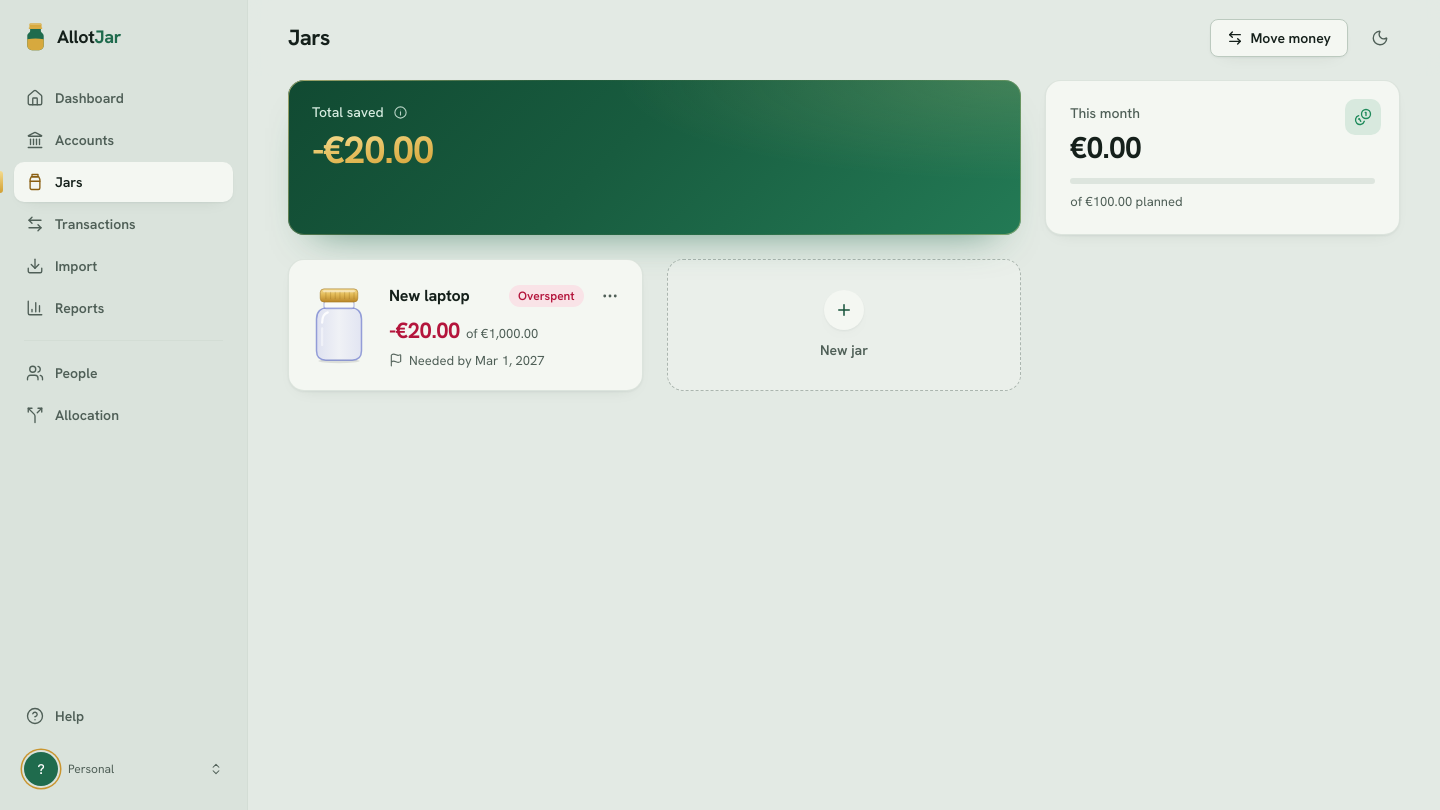
Test case: JarsPage — completion and deletion (W04) › O3a: an overdrawn Goal's dialog says how much to cover first, with nothing to confirm
The image size is (1440, 810).
Click the button named "New laptop: more actions": (610, 296) [590,276,630,316]
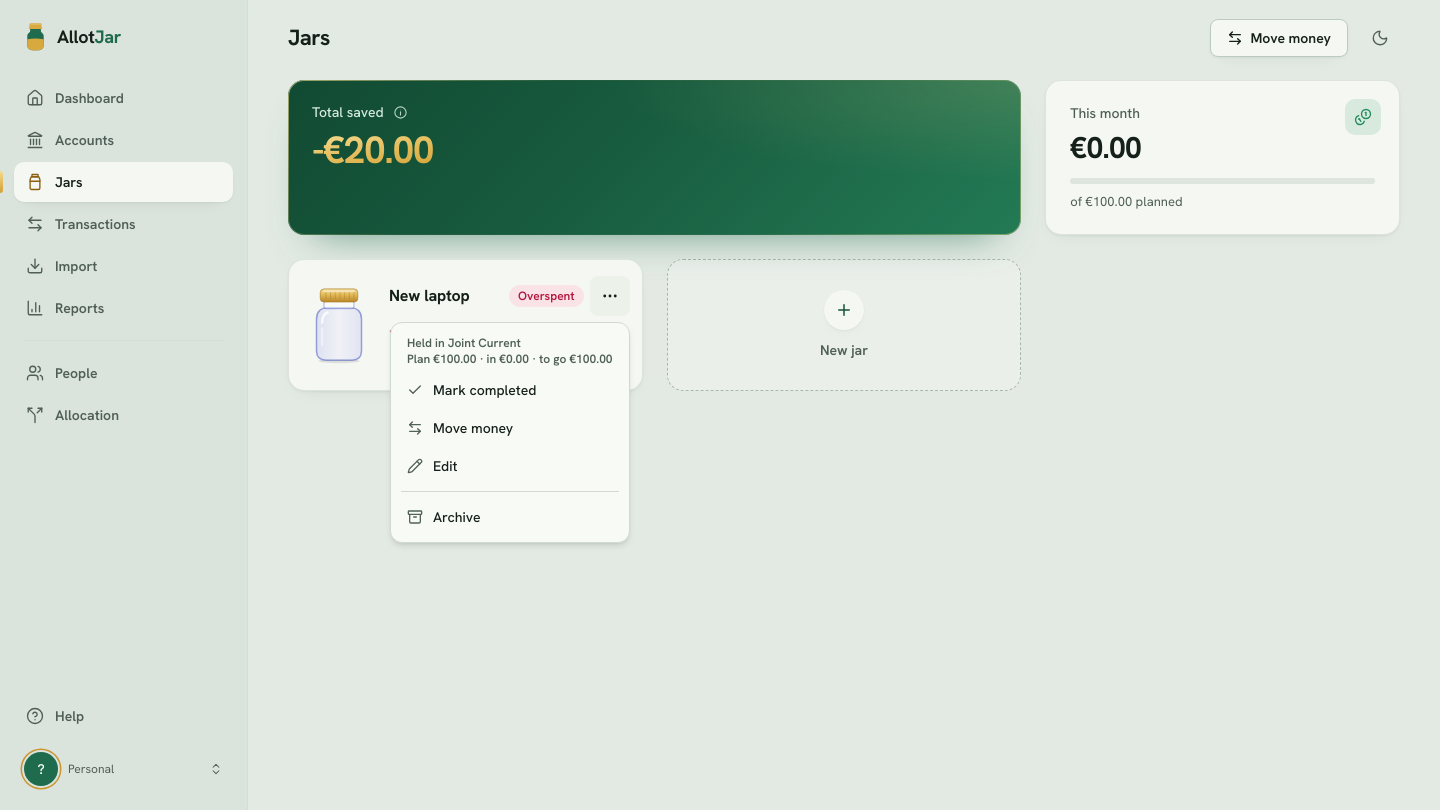
Click the menu item "Mark completed": (472, 390) [407,381,536,399]
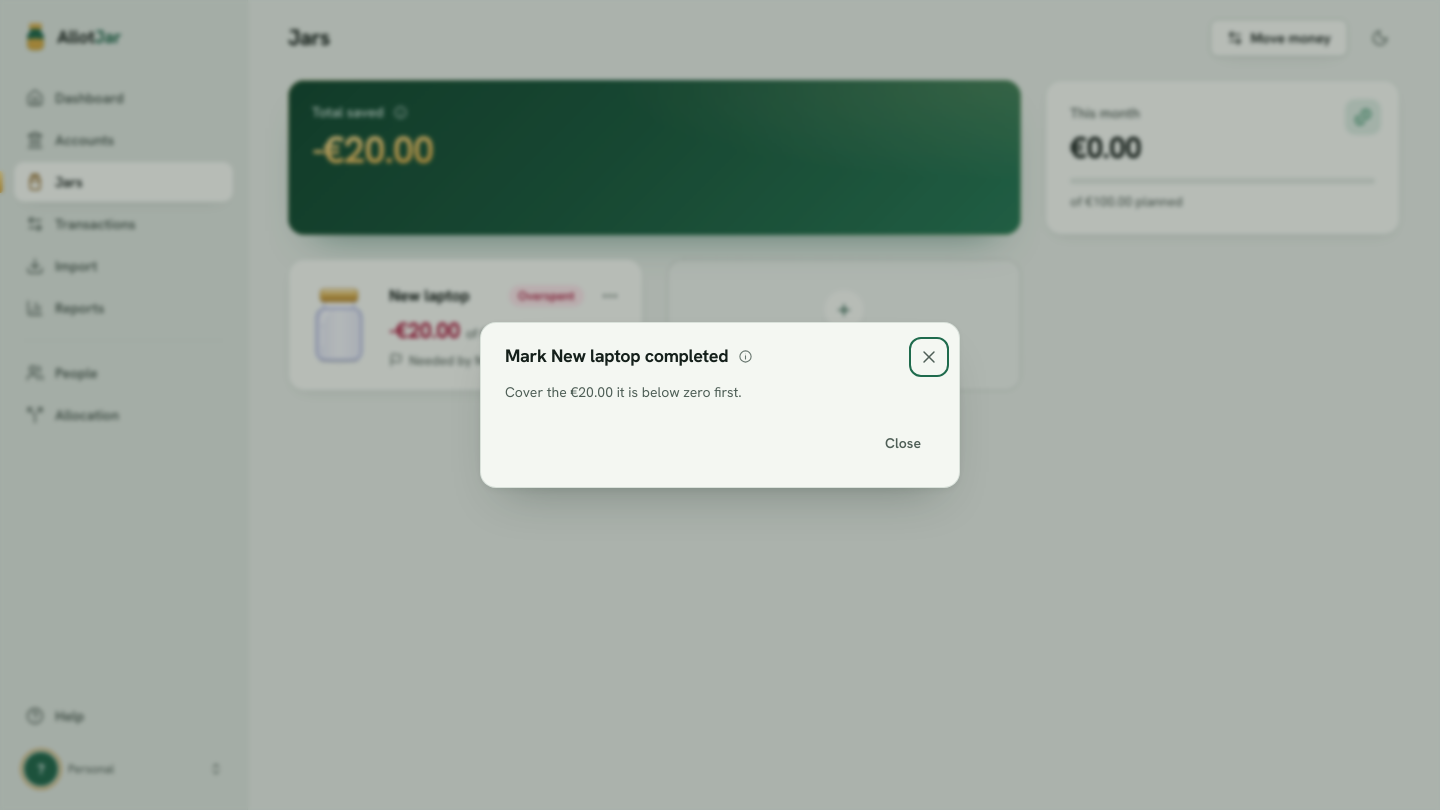
Result: the heading "Mark New laptop completed" is shown at [505,345,728,368]
Result: the text "Cover the €20.00 it is below zero first." is shown at [505,384,742,401]
Focus the button named "About completing a jar": (745, 356) [734,346,756,368]
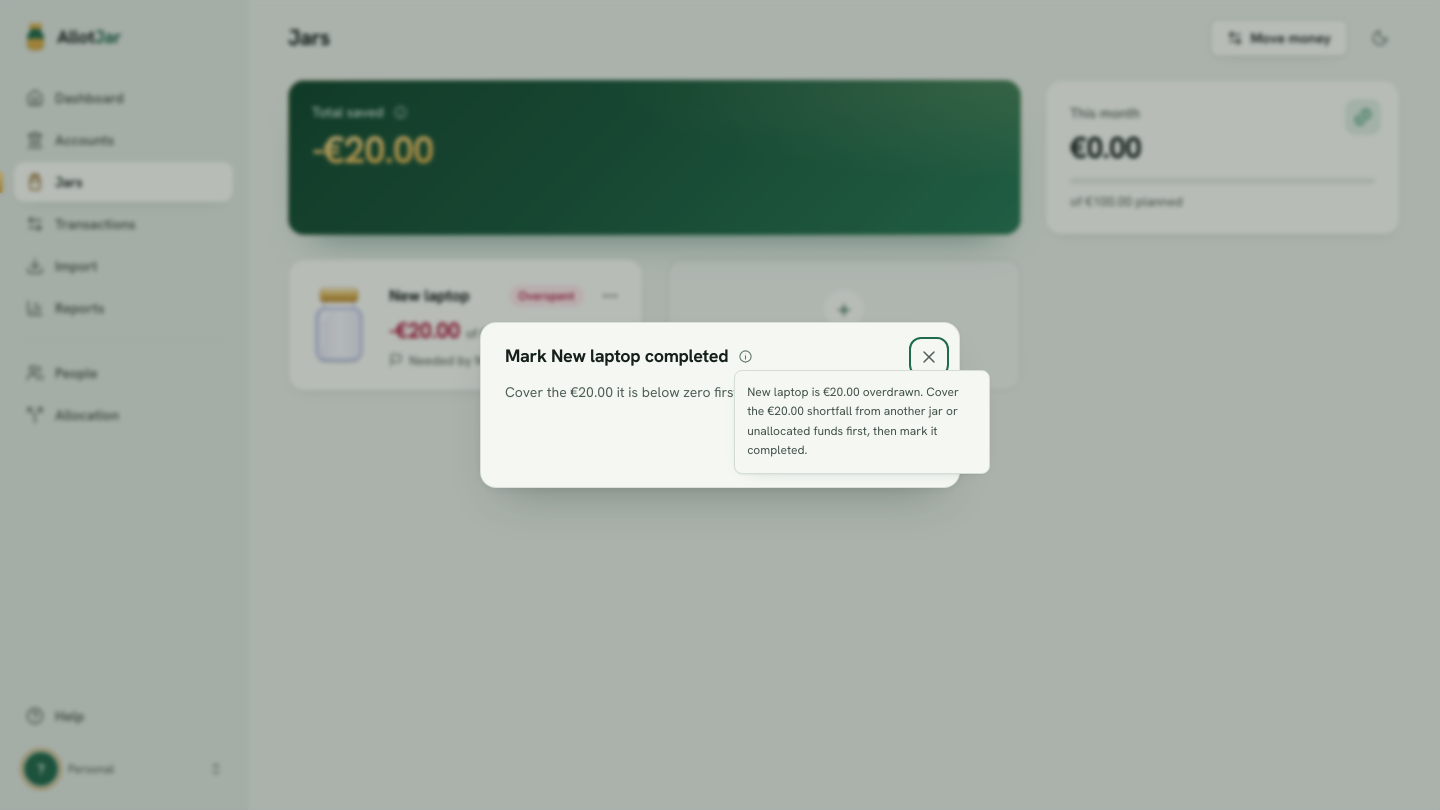
Expected: the menu item "Mark completed" is not shown
Result: the tooltip "New laptop is €20.00 overdrawn. Cover the €20.00 shortfall from another jar or unallocated funds first, then mark it com" is shown at [747,384,959,458]
